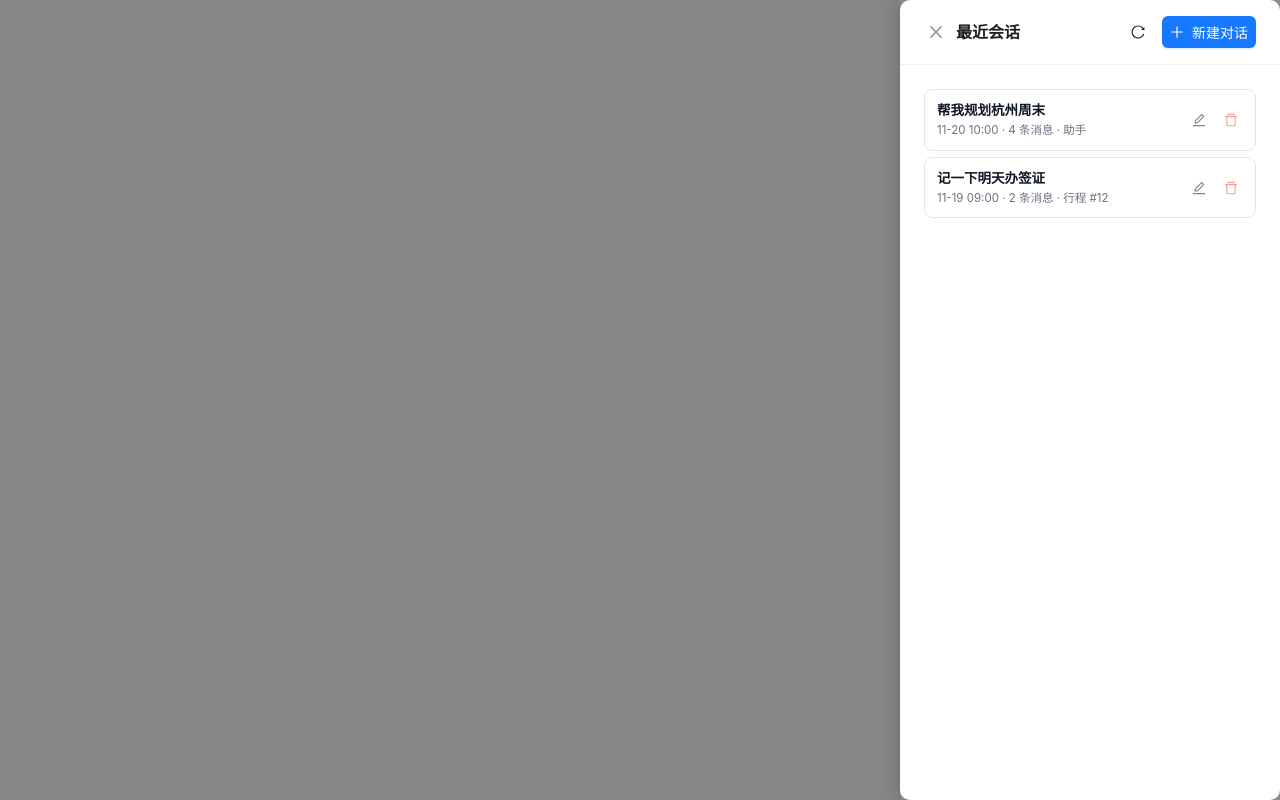
Test: ConversationDrawer · 改名与删除（V23） › 删除失败：给出提示且列表保持原样
This screenshot has width=1280, height=800.
Click the button named "删除「记一下明天办签证」".
click(1231, 187)  # box [1215,171,1247,203]
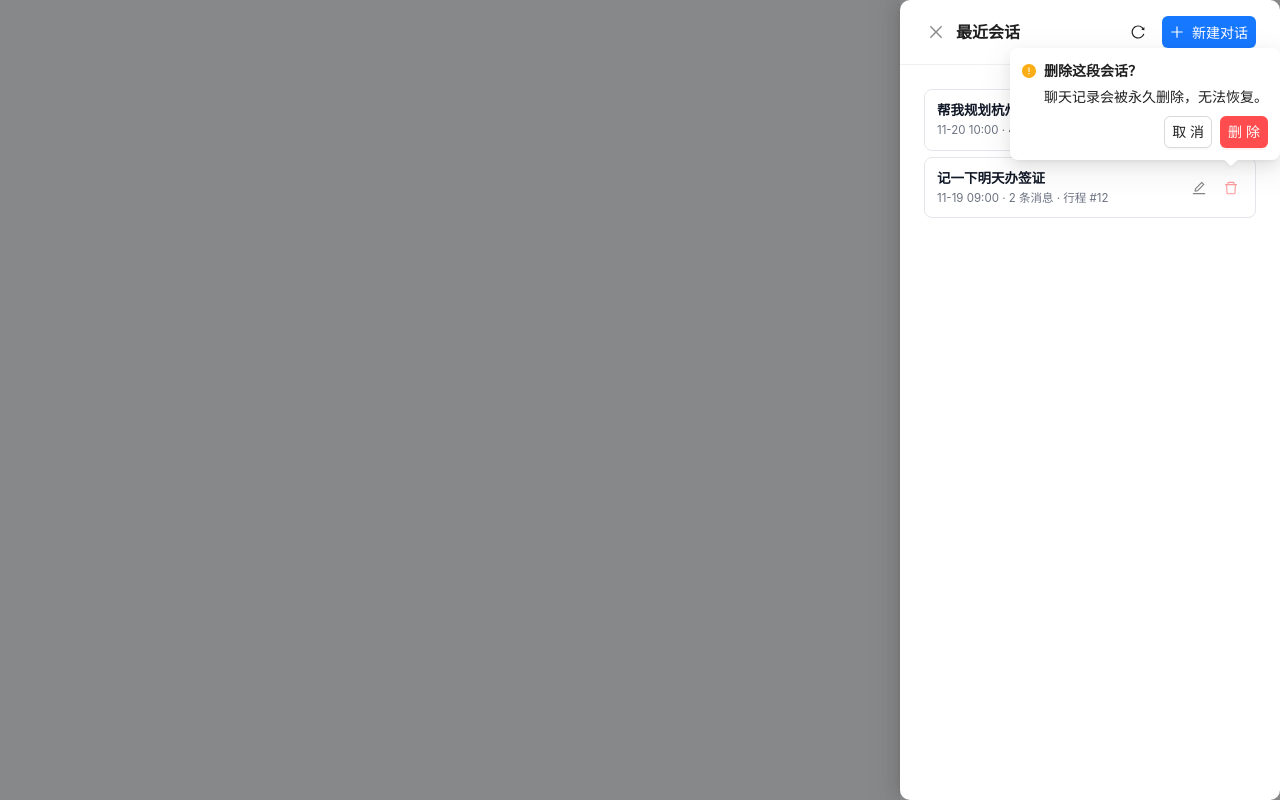
Click the button "删 除".
click(1244, 132)  # box [1220,116,1268,148]
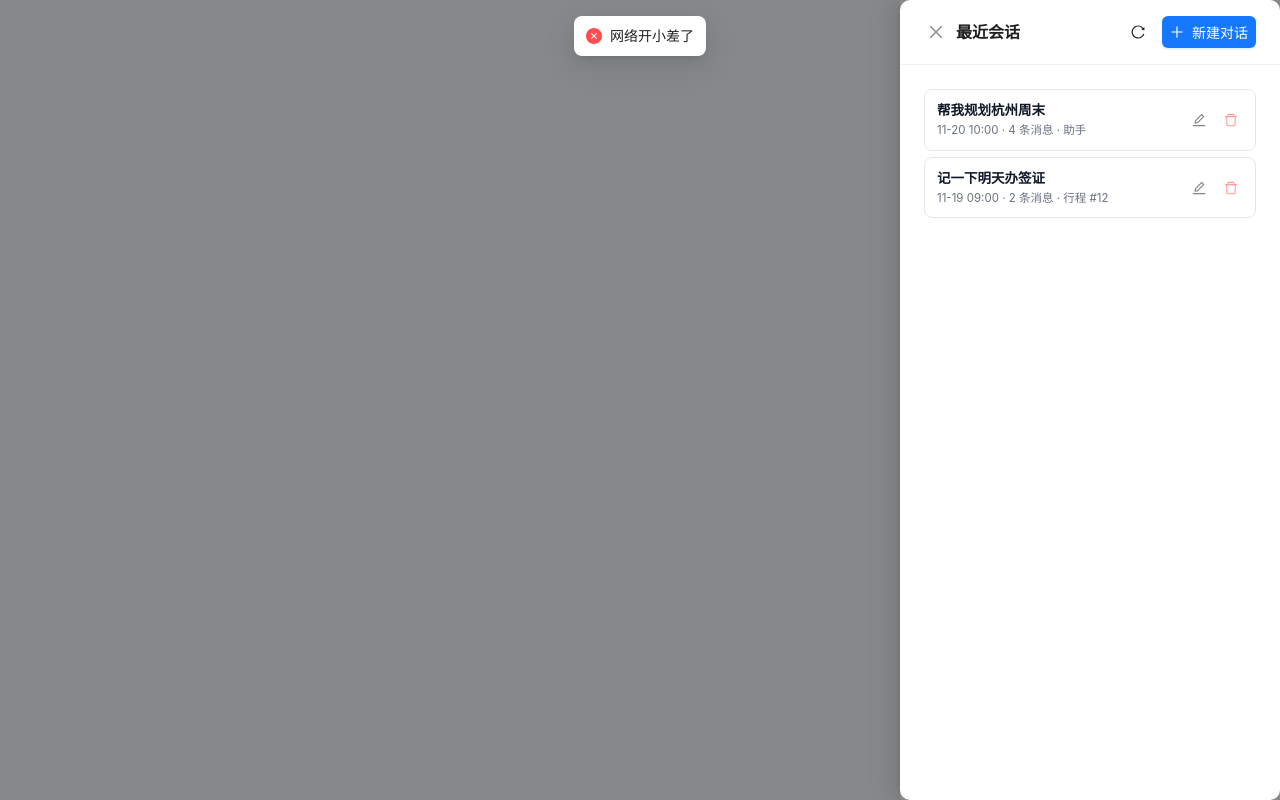
Expected: the text "记一下明天办签证" is shown, [937,168,1045,188]
Result: the text "网络开小差了" is shown at [610,25,694,47]
